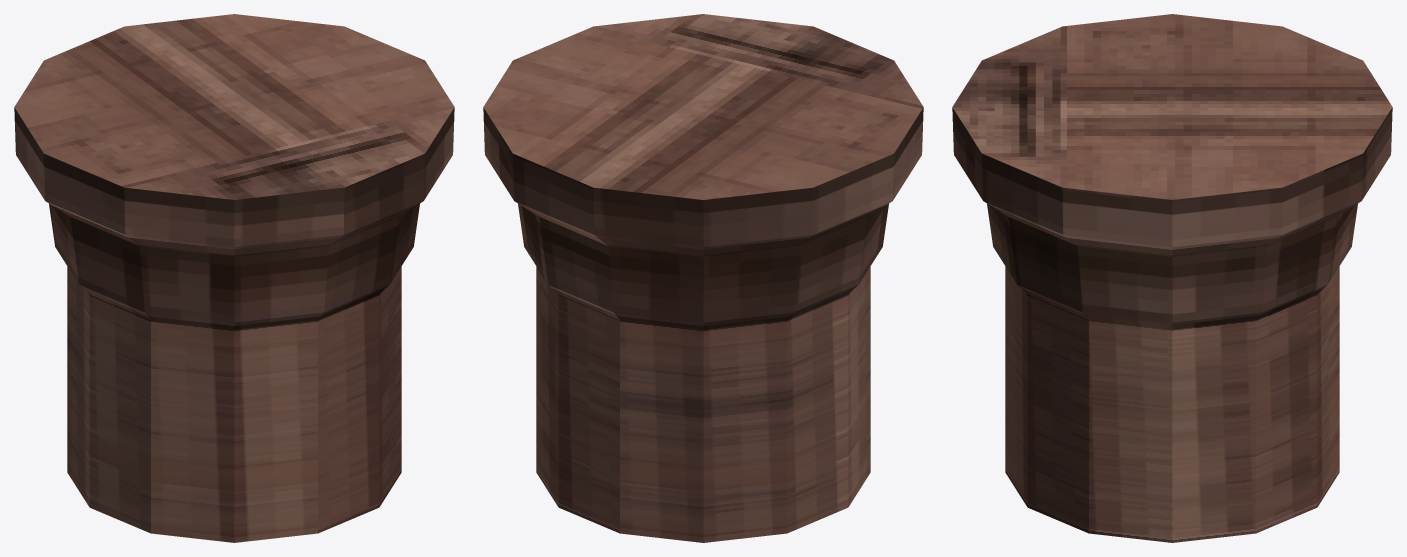
File: CharlieChurchCollumnEnd.obj
3 renders of one model, left to right at view 1: azimuth 30°, elevation 25°; view 2: azimuth 150°, elevation 25°; view 3: azimuth 270°, elevation 25°, orthographic.
Parts seen in each view (by area): view 1: Cylinder; view 2: Cylinder; view 3: Cylinder.
Part boxes in pixels (box(x1,y1,x2,y2)): Cylinder: box(14, 14, 454, 542); Cylinder: box(483, 14, 923, 542); Cylinder: box(952, 14, 1392, 542).
Bounding box in the file's own units: 2.63 × 2.41 × 2.63.
Materials: 1 (1 with a texture image).
